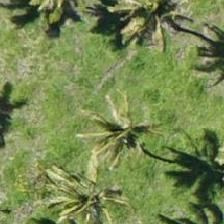coconut_tree: (66, 82, 156, 172), (38, 157, 128, 223), (101, 0, 191, 53)
